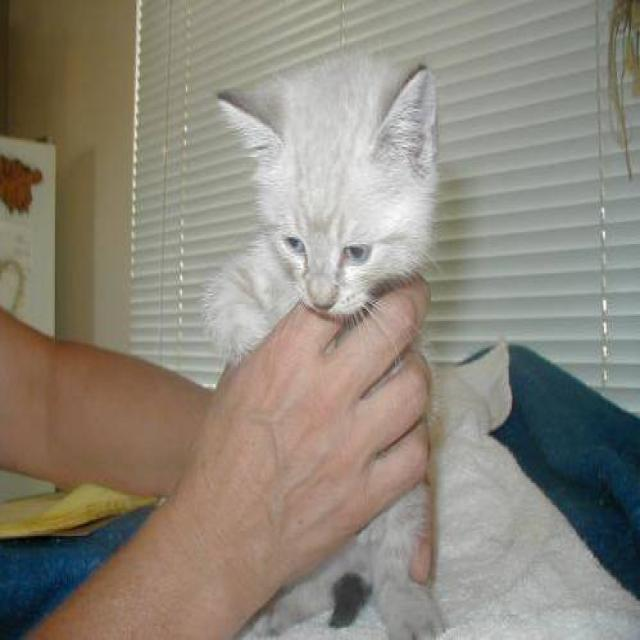cat: (201, 44, 448, 638)
